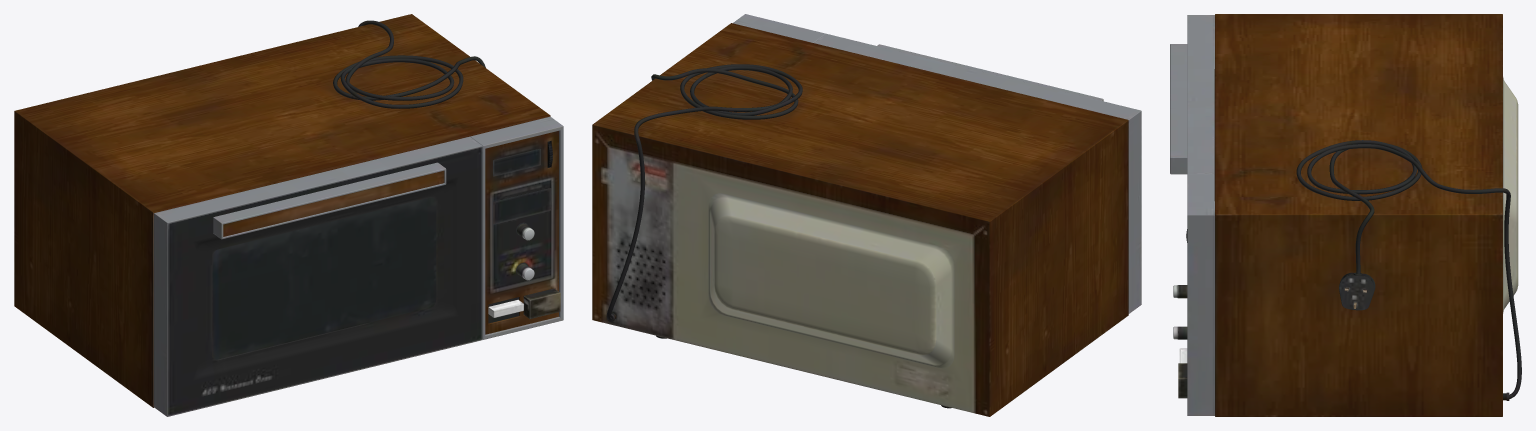
Rendered from vintage_microwave.glb.
The picture shows the model from 3 angles, left to right: view 1: azimuth 30°, elevation 25°; view 2: azimuth 150°, elevation 25°; view 3: azimuth 270°, elevation 25°; orthographic projection. The views are drawn at different scales.
Visible parts, largest first — view 1: vintage_microwave; view 2: vintage_microwave; view 3: vintage_microwave.
Part boxes in pixels (x1,y1,x2,y2): vintage_microwave: (14,14,563,416); vintage_microwave: (592,14,1141,416); vintage_microwave: (1170,14,1521,416).
Size of the model in its own units: 1.07 by 0.5258 by 0.7456.
Materials: 2 (2 with a texture image).
